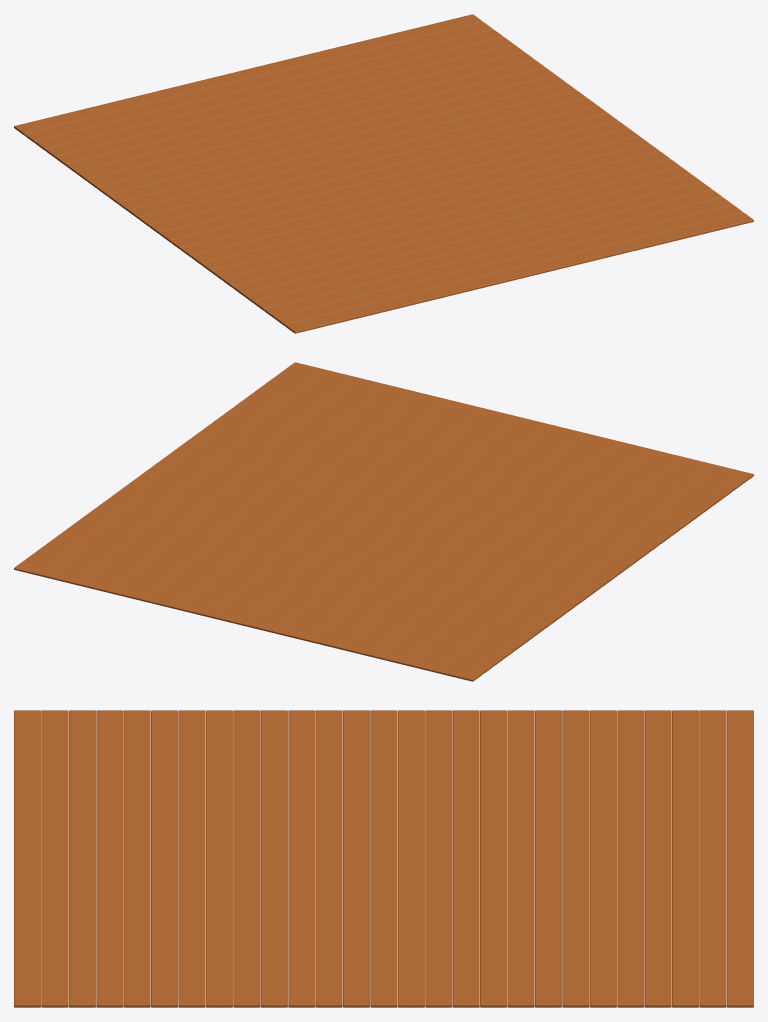
File: floor.fbx
The picture shows the model from 3 angles, top to bottom: view 1: azimuth 30°, elevation 25°; view 2: azimuth 150°, elevation 25°; view 3: azimuth 270°, elevation 25°; orthographic projection. The views are drawn at different scales.
Parts seen in each view (by area): view 1: floor_wood; view 2: floor_wood; view 3: floor_wood.
Part boxes in pixels (<box>): floor_wood: <box>14,14,753,333</box>; floor_wood: <box>14,362,753,681</box>; floor_wood: <box>14,710,753,1007</box>.
Size of the model in its own units: 1667 by 7.45 by 1770.
